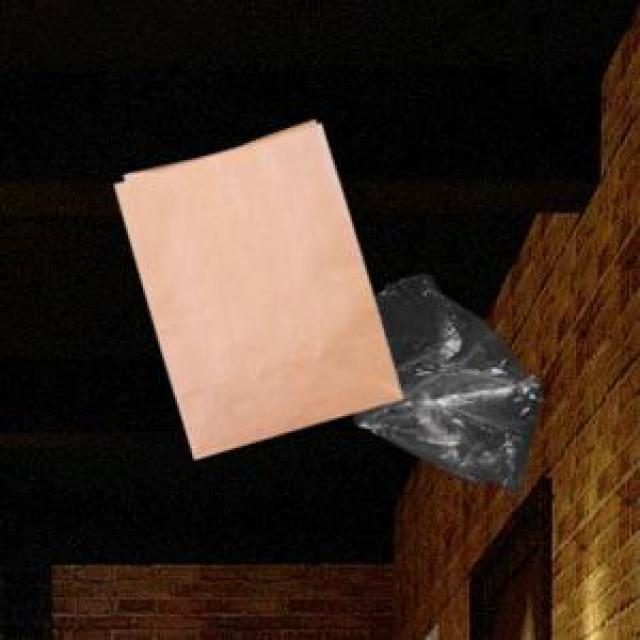paper: (111, 117, 397, 454)
